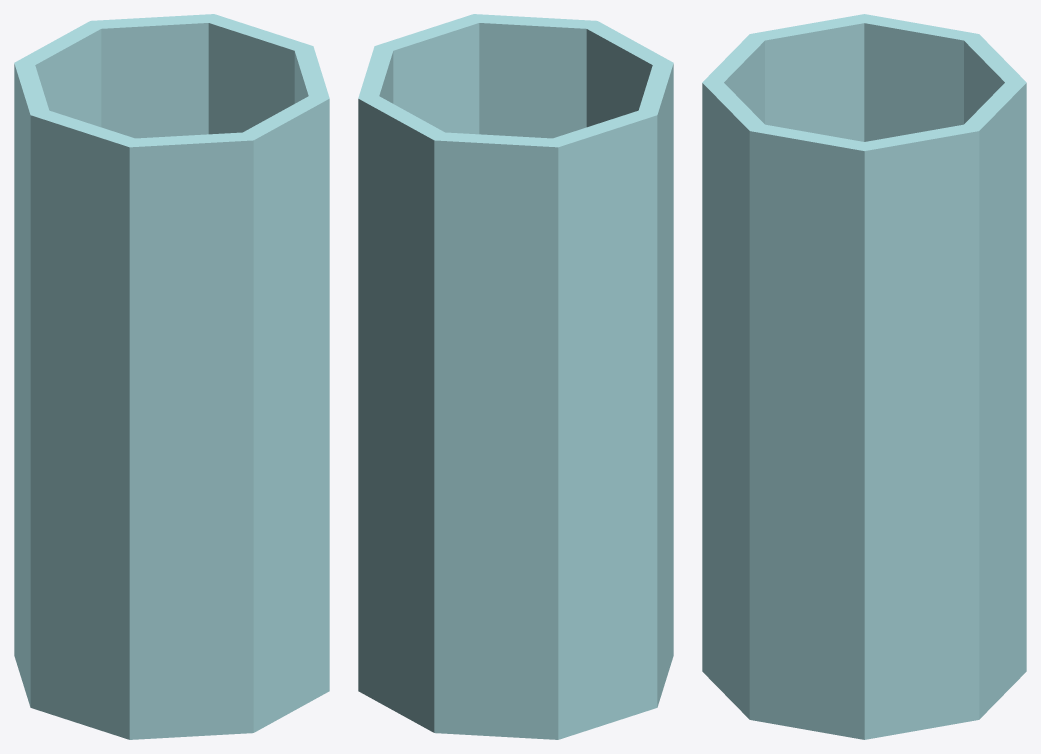
File: 22eca11c-76ad-41d9-8e75-151ac8d2cb6d.glb
3 views of the same model, side by side, from view 1: azimuth 30°, elevation 25°; view 2: azimuth 150°, elevation 25°; view 3: azimuth 270°, elevation 25° (orthographic).
Visible parts, largest first — view 1: glass_of_Milk_Circle.012; view 2: glass_of_Milk_Circle.012; view 3: glass_of_Milk_Circle.012.
Part boxes in pixels (box(x1,y1,x2,y2)): glass_of_Milk_Circle.012: box(14, 14, 329, 739); glass_of_Milk_Circle.012: box(358, 14, 673, 739); glass_of_Milk_Circle.012: box(702, 14, 1026, 739).
Bounding box in the file's own units: 4.99 × 9.98 × 4.99.
